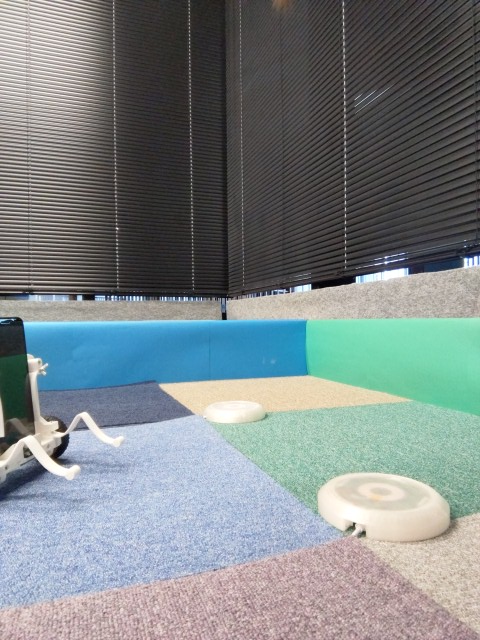br: (1, 316, 130, 506)
o: (312, 468, 458, 546), (201, 396, 268, 425)
